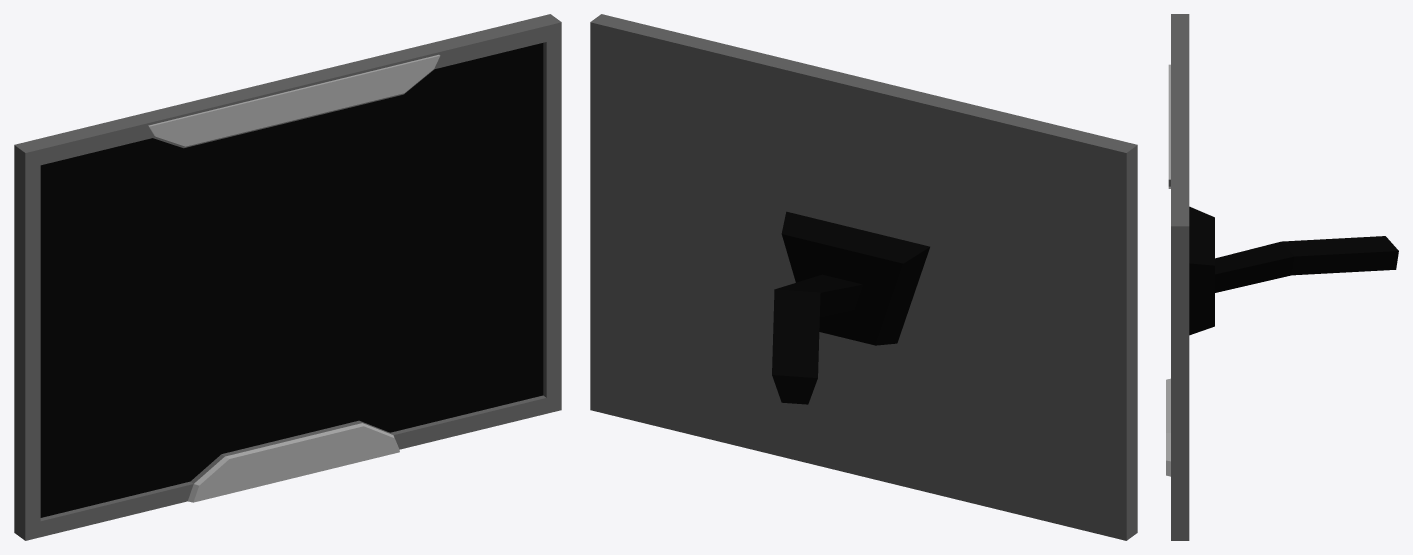
The model's file is small_monitor_right.fbx.
3 views of the same model, side by side, from view 1: azimuth 30°, elevation 25°; view 2: azimuth 150°, elevation 25°; view 3: azimuth 270°, elevation 25° (orthographic). The views are drawn at different scales.
Parts seen in each view (by area): view 1: Cube.001; view 2: Cube.001; view 3: Cube.001.
Part boxes in pixels (left/top/right/bottom): Cube.001: left=14, top=14, right=561, bottom=540; Cube.001: left=590, top=14, right=1137, bottom=540; Cube.001: left=1166, top=14, right=1398, bottom=540.
Bounding box in the file's own units: 183 × 126 × 84.86.
